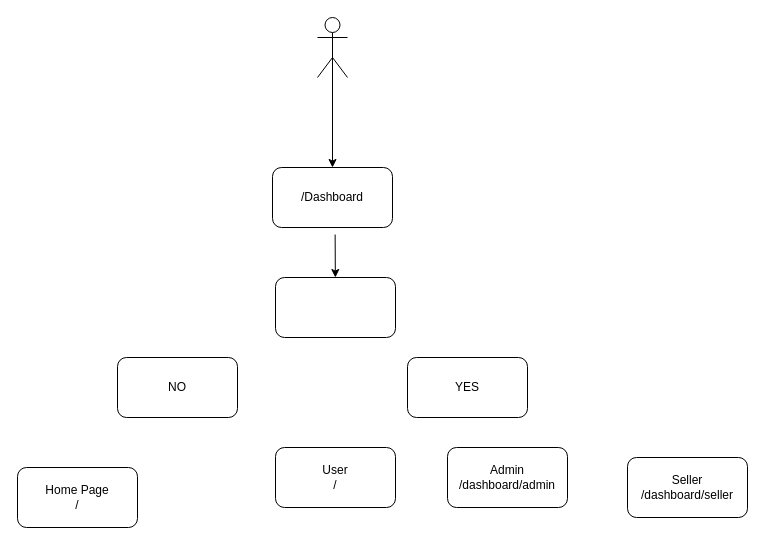
This 765x545 diagram has some shape labels left out. The shapes that lost their labels are listed below. From the top down, each one's box as (x1, y1, x2, y2) in pixels, then its label:
(316, 16, 348, 78): Actor
(274, 276, 396, 338): Is authenticated ?
